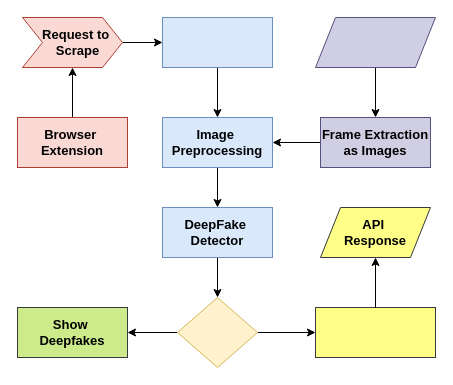
Some shapes in this 453 by 385 pixel diagram are drawn without their labels. Each missing label, with the centre of its shape:
"API Request (with files)" goes at pixel 375 42.
"Image Downloading" goes at pixel 217 42.
"Is API Call" goes at pixel 217 332.
"Return Result and Confidence" goes at pixel 375 332.
